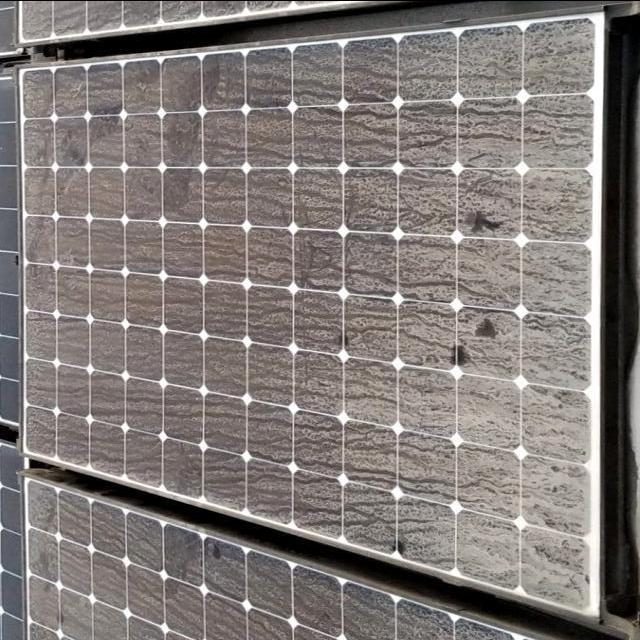soiled: (19, 3, 617, 640)
